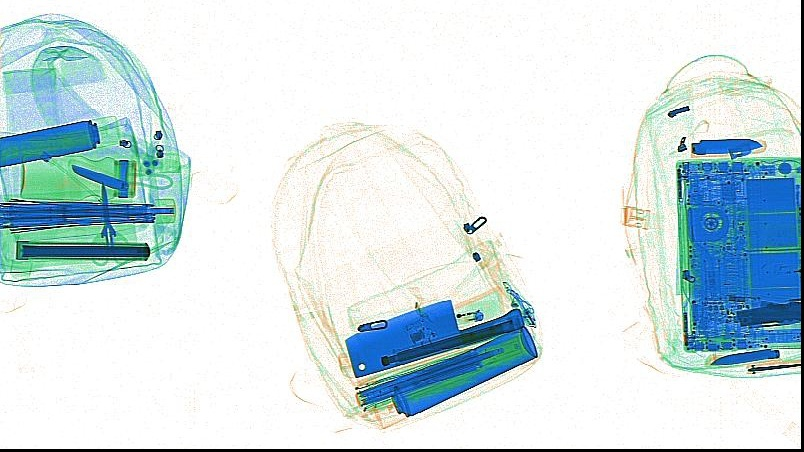knife: (344, 299, 524, 378), (68, 158, 129, 190), (736, 299, 799, 327), (690, 137, 765, 157), (709, 347, 780, 366), (745, 358, 799, 373)
lighter: (453, 308, 484, 324)
pressure: (372, 322, 536, 427), (1, 114, 119, 170)
scissors: (87, 181, 131, 266)
